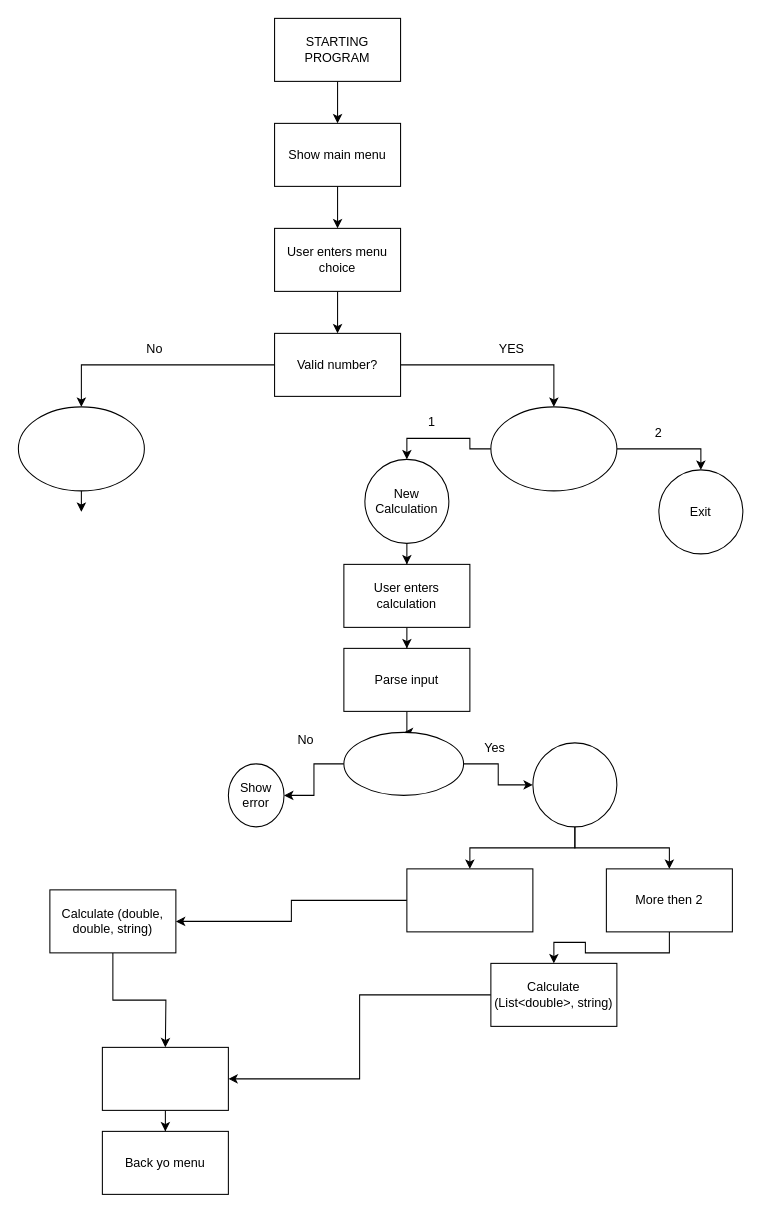
Image size: 761x1213. Some labels were removed from this diagram. Here are the shapes that lost their labels. From the top down, the centre of each, then its label:
the point at 80,448: Error
the point at 553,448: Choice?
the point at 403,763: Valid input?
the point at 574,784: How many numbers?
the point at 469,900: Exactly 2
the point at 164,1078: Show result
